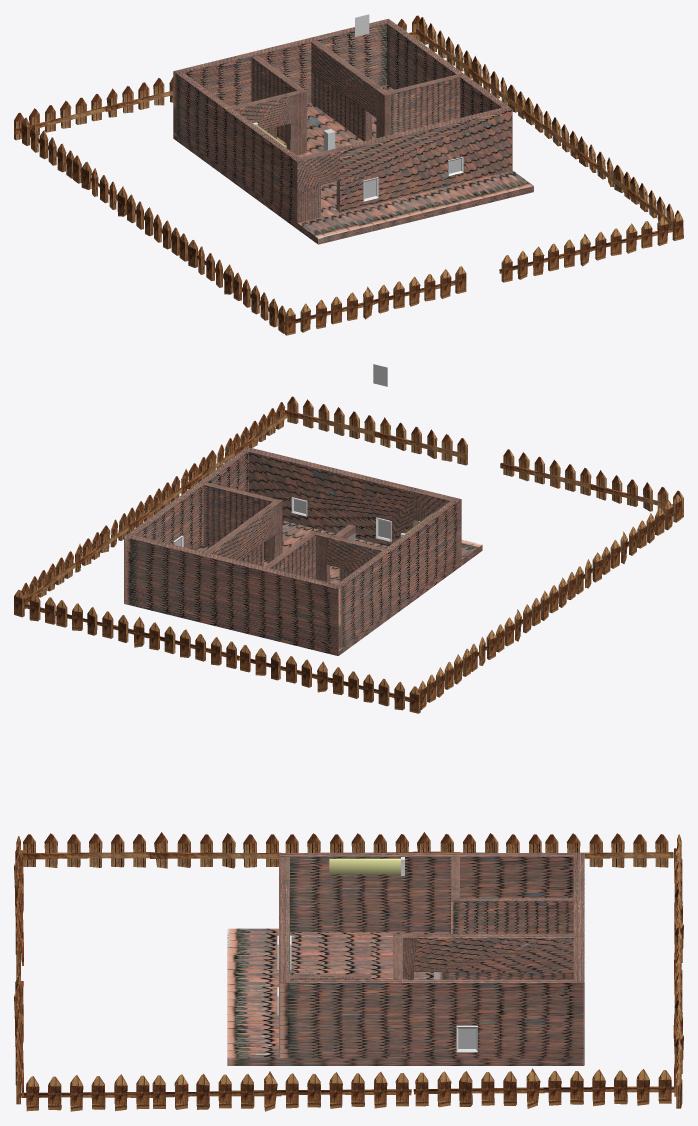
The model's file is TexturedHouse.fbx.
3 renders of one model, top to bottom at view 1: azimuth 30°, elevation 25°; view 2: azimuth 150°, elevation 25°; view 3: azimuth 270°, elevation 25°, orthographic. The views are drawn at different scales.
Parts seen in each view (by area): view 1: Wall.001, Floor, Wall, Wall.003, BedRoomWall.001, Wall.002, BedRoomWall, BathDoor, BathDoor.001; view 2: Wall.003, Wall.001, Wall, Wall.002, BedRoomWall.001, BedRoomWall, BathDoor, Floor, BathDoor.001; view 3: Wall.002, Wall, Floor, BedRoomWall.001, BathDoor.001, Wall.003, Wall.001, Light, Fence Guard.005, Fence Guard.004, Fence Guard.009.
Boxes of the visible parts, x1,y1,x2,y2 form: Wall.001: (295,106,511,222); Floor: (173,85,533,244); Wall: (173,72,302,228); Wall.003: (173,19,392,141); BedRoomWall.001: (311,40,390,141); Wall.002: (387,19,512,170); BedRoomWall: (387,73,464,134); BathDoor: (231,90,301,155); BathDoor.001: (251,55,307,153); Wall.003: (124,534,342,655); Wall.001: (243,447,461,559); Wall: (337,498,461,646); Wall.002: (124,447,248,600); BedRoomWall.001: (204,499,282,566); BedRoomWall: (199,481,277,560); BathDoor: (316,532,385,582); Floor: (124,521,482,652); BathDoor.001: (264,531,318,579); Wall.002: (279,979,584,1058); Wall: (280,853,573,932); Floor: (227,928,584,1065); BedRoomWall.001: (393,933,573,979); BathDoor.001: (451,897,573,933); Wall.003: (573,853,584,1064); Wall.001: (279,853,289,1057); Light: (329,857,404,875); Fence Guard.005: (22,852,151,859); Fence Guard.004: (149,852,280,858); Fence Guard.009: (575,852,673,858).
Bounding box in the file's own units: 4897 × 2207 × 5630.
7 materials, 2 textured.
